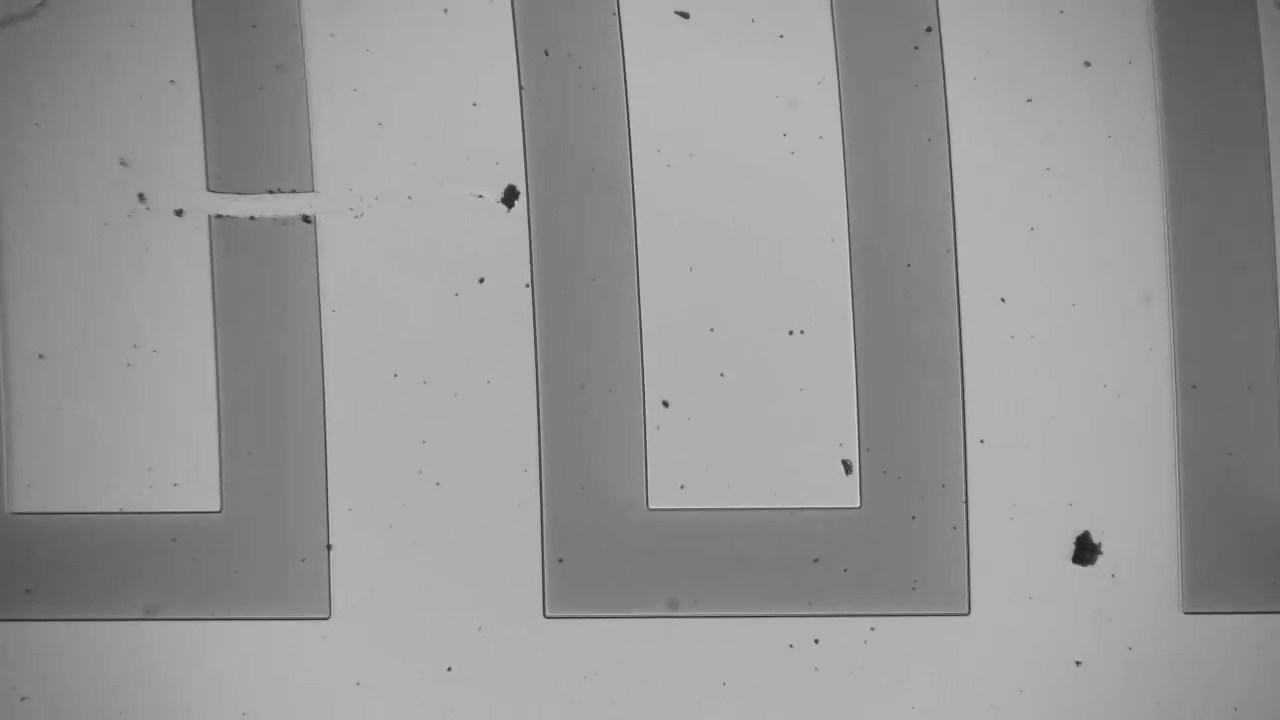Short_circuit: (184, 177, 349, 243)
